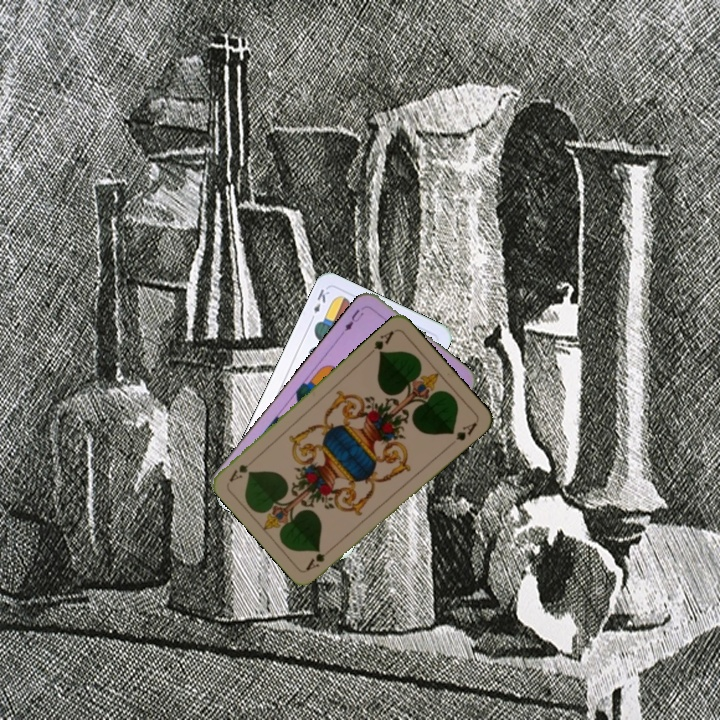EK: (306, 285, 332, 324)
EU: (339, 302, 368, 337)
GA: (302, 542, 336, 573), (364, 326, 396, 358)
